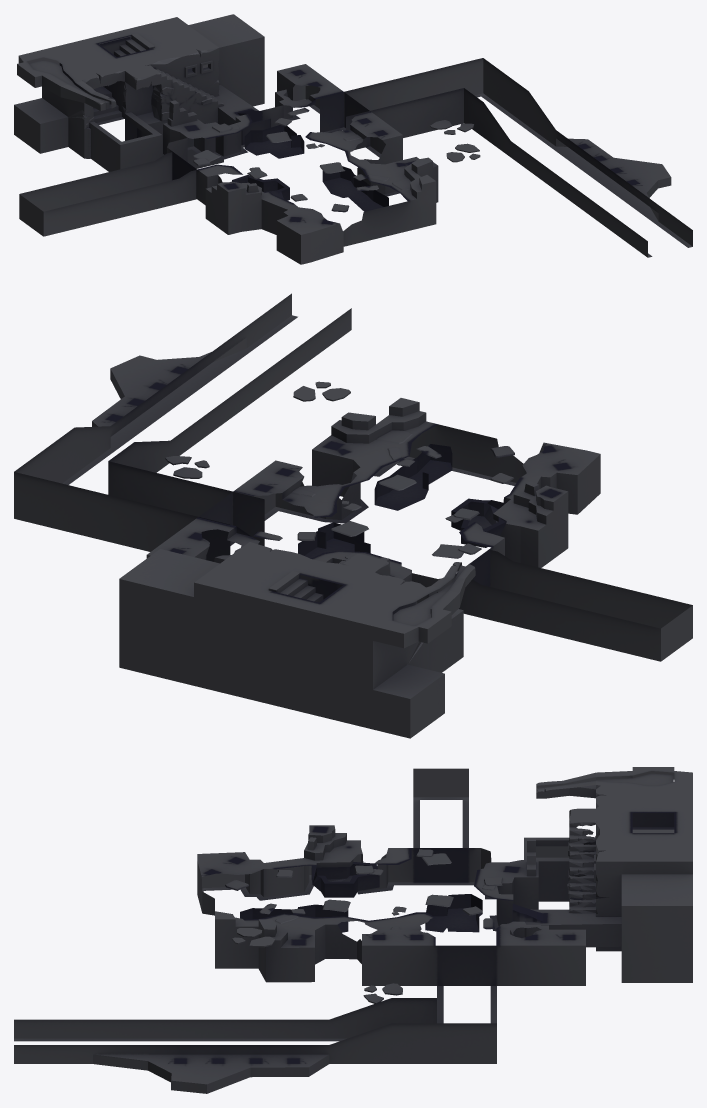
The model's file is Ground_01.FBX.
3 renders of one model, top to bottom at view 1: azimuth 30°, elevation 25°; view 2: azimuth 150°, elevation 25°; view 3: azimuth 270°, elevation 25°, orthographic. The views are drawn at different scales.
Parts seen in each view (by area): view 1: Ground_01; view 2: Ground_01; view 3: Ground_01.
Part boxes in pixels (x1,y1,x2,y2): Ground_01: (14, 14, 692, 264); Ground_01: (14, 293, 692, 738); Ground_01: (14, 767, 692, 1093).
Size of the model in its own units: 54.27 by 10.38 by 52.37.
